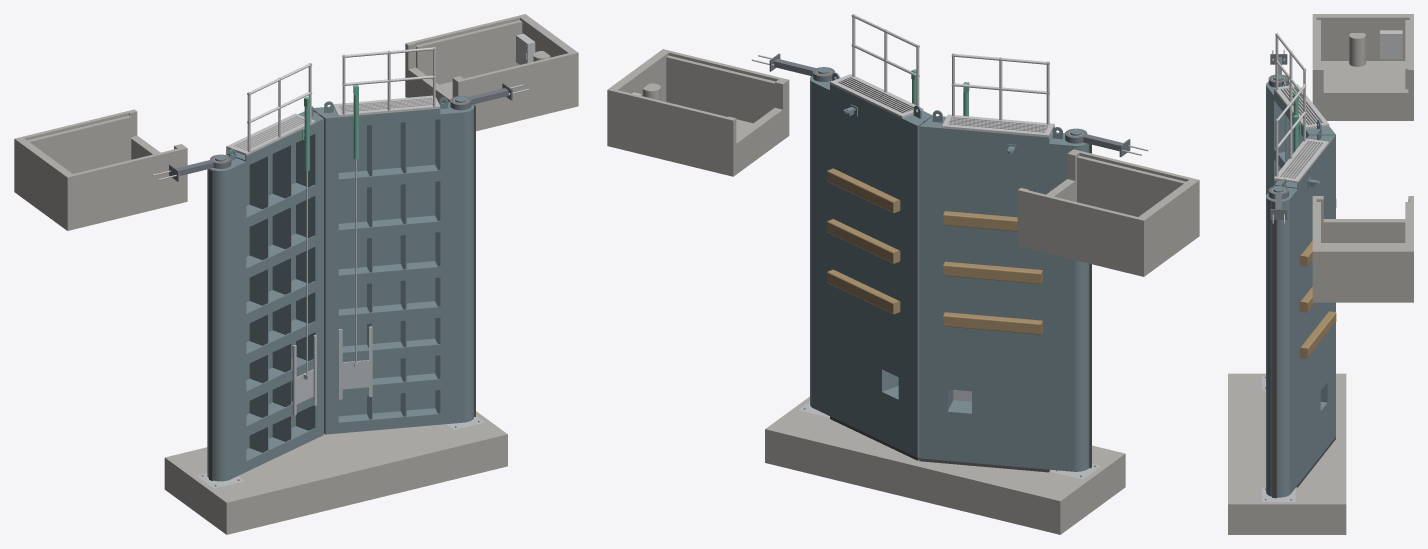
Rendered from step_05.glb.
3 views of the same model, side by side, from view 1: azimuth 30°, elevation 25°; view 2: azimuth 150°, elevation 25°; view 3: azimuth 270°, elevation 25° (orthographic). The views are drawn at different scales.
Visible parts, largest first — view 1: part__cill, part__right skin plate, part__left inspection chamber, part__right inspection chamber, part__right heel post, part__left heel post, part__left mitre post, part__right mitre post, part__left stiffener 2, part__left stiffener 1, part__left skin plate, part__right girder 1 (+23 smaller); view 2: part__left skin plate, part__right skin plate, part__cill, part__right inspection chamber, part__left inspection chamber, part__left heel post, part__left mitre post, part__right heel post, part__right mitre post, part__left walkway grating, part__right walkway grating, part__left oak fender 1 (+7 smaller); view 3: part__cill, part__left inspection chamber, part__right inspection chamber, part__right heel post, part__right skin plate, part__right mitre post, part__right heel seal, part__left heel post, part__right walkway grating, part__left walkway grating, part__right handrail, part__left handrail (+9 smaller).
Part boxes in pixels (x1,y1,x2,y2): part__cill: [164, 411, 507, 534]; part__right skin plate: [338, 119, 435, 416]; part__left inspection chamber: [14, 109, 187, 230]; part__right inspection chamber: [405, 14, 578, 131]; part__right heel post: [435, 96, 473, 424]; part__left heel post: [207, 154, 246, 481]; part__left mitre post: [296, 111, 323, 438]; part__right mitre post: [313, 106, 338, 434]; part__left stiffener 2: [272, 145, 291, 441]; part__left stiffener 1: [249, 156, 268, 452]; part__left skin plate: [226, 143, 295, 449]; part__right girder 1: [338, 408, 440, 433]; part__left skin plate: [942, 128, 1049, 469]; part__right skin plate: [830, 84, 902, 450]; part__cill: [765, 396, 1125, 534]; part__right inspection chamber: [607, 49, 789, 176]; part__left inspection chamber: [1017, 149, 1199, 276]; part__left heel post: [1049, 129, 1089, 471]; part__left mitre post: [919, 116, 946, 460]; part__right heel post: [810, 67, 840, 415]; part__right mitre post: [902, 111, 932, 457]; part__left walkway grating: [942, 114, 1054, 137]; part__right walkway grating: [830, 74, 923, 118]; part__left oak fender 1: [943, 312, 1042, 334]; part__cill: [1228, 373, 1346, 534]; part__left inspection chamber: [1312, 14, 1413, 120]; part__right inspection chamber: [1312, 196, 1413, 302]; part__right heel post: [1266, 185, 1297, 497]; part__right skin plate: [1297, 144, 1329, 484]; part__right mitre post: [1307, 135, 1335, 444]; part__right heel seal: [1272, 201, 1276, 498]; part__left heel post: [1266, 74, 1295, 195]; part__right walkway grating: [1274, 138, 1329, 183]; part__left walkway grating: [1274, 84, 1329, 129]; part__right handrail: [1275, 84, 1306, 176]; part__left handrail: [1275, 33, 1306, 101].
Bounding box in the file's own units: 9998 × 7700 × 3300.
